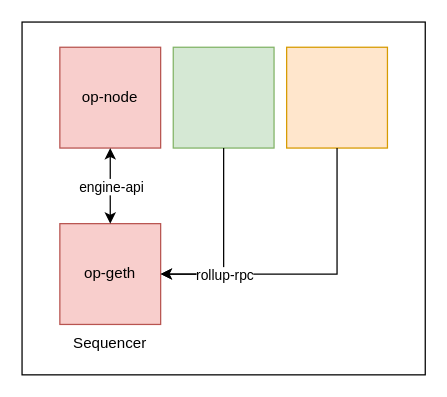
This 447x397 diagram has some shape labels left out. Here are the shapes that lost their labels. From the top down, the centre of each, then its label:
(223,97): op-batcher
(336,97): op-proposer
